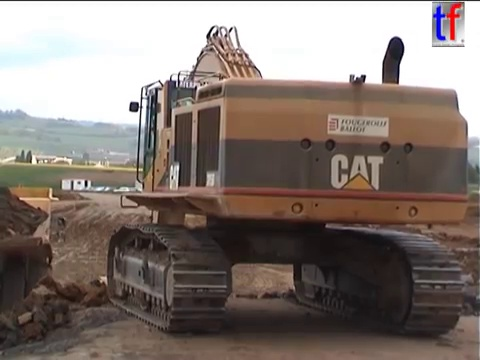excavator: (93, 20, 473, 340)
truck: (1, 181, 62, 325)
